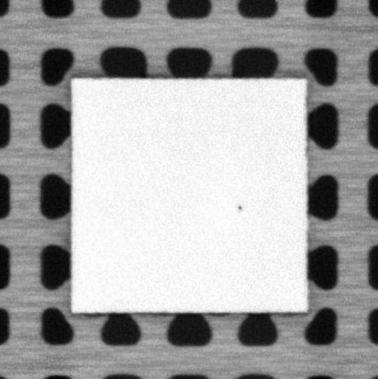DIE_INK: (235, 202, 244, 211)
